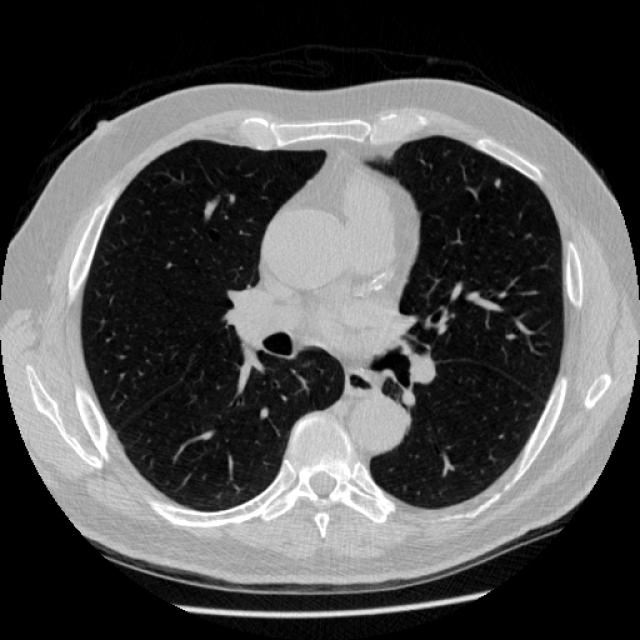nodule: (487, 174, 505, 191)
